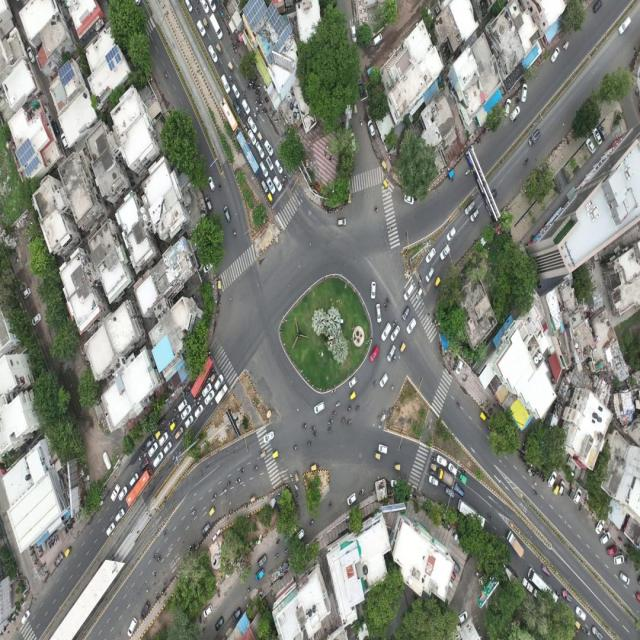3W: (265, 188, 275, 207), (391, 459, 403, 474), (478, 408, 488, 425), (201, 13, 210, 31), (64, 543, 74, 559), (207, 502, 217, 518), (426, 458, 437, 472), (293, 468, 302, 485), (447, 165, 456, 182), (256, 126, 264, 145), (154, 426, 164, 441), (226, 59, 236, 74), (551, 482, 560, 498), (397, 340, 408, 353), (258, 448, 268, 462), (270, 448, 280, 462), (568, 484, 576, 501), (433, 275, 442, 290), (308, 462, 320, 473), (371, 451, 382, 463), (168, 420, 178, 433), (215, 40, 223, 56), (382, 176, 389, 194), (381, 155, 388, 173), (248, 494, 258, 506), (216, 277, 224, 292), (352, 101, 359, 117), (348, 391, 358, 402), (572, 620, 581, 630), (210, 373, 217, 384)
Bus: (124, 463, 156, 512), (188, 351, 217, 402), (235, 128, 262, 179), (527, 566, 560, 604), (456, 492, 487, 532), (219, 95, 241, 137)
Cars: (617, 16, 632, 38), (126, 613, 139, 638), (138, 598, 152, 621), (527, 127, 543, 147), (590, 125, 604, 147), (444, 224, 458, 245), (590, 621, 605, 640), (254, 137, 266, 160), (265, 175, 277, 198), (574, 604, 588, 623), (510, 104, 522, 126), (366, 343, 379, 363), (584, 136, 597, 156), (540, 559, 553, 579), (222, 202, 233, 225), (313, 398, 327, 416), (380, 322, 392, 343), (424, 246, 438, 264), (20, 608, 33, 627), (199, 519, 212, 538), (599, 527, 612, 546), (561, 586, 574, 605), (403, 282, 414, 304), (213, 372, 225, 392), (389, 324, 401, 344), (406, 316, 418, 336), (598, 122, 610, 142), (594, 516, 606, 536), (454, 479, 466, 499), (52, 550, 65, 568), (113, 506, 126, 524), (202, 601, 215, 619), (618, 571, 631, 589), (366, 118, 377, 139), (152, 450, 164, 469), (448, 459, 460, 478), (374, 300, 383, 325), (215, 614, 226, 634), (208, 44, 219, 64), (221, 73, 231, 95), (348, 132, 358, 154), (386, 344, 397, 364), (572, 484, 582, 506), (116, 484, 128, 502), (371, 32, 383, 50), (464, 199, 476, 217), (265, 152, 275, 173), (436, 453, 450, 468), (427, 473, 441, 488), (231, 603, 242, 622), (272, 175, 283, 194), (262, 428, 275, 444), (294, 528, 307, 544), (439, 246, 452, 262), (503, 96, 512, 119), (204, 389, 216, 406), (444, 484, 456, 501), (241, 96, 251, 116), (247, 127, 257, 147), (264, 137, 274, 157), (550, 45, 560, 65), (546, 468, 556, 488), (159, 428, 168, 450), (379, 370, 390, 388), (612, 554, 626, 568), (173, 427, 186, 442), (182, 415, 195, 430), (591, 0, 604, 15), (254, 568, 266, 584), (606, 542, 618, 558), (106, 519, 116, 538), (196, 19, 206, 38), (274, 157, 284, 176), (347, 490, 358, 507), (358, 77, 366, 100), (255, 554, 269, 567), (128, 472, 140, 487), (149, 441, 159, 459), (180, 404, 192, 419), (233, 98, 242, 118), (248, 115, 258, 133), (260, 158, 269, 178), (425, 266, 435, 284), (377, 440, 389, 455), (147, 433, 158, 449), (205, 192, 213, 214), (230, 84, 241, 100), (369, 278, 377, 300), (401, 305, 411, 322), (192, 404, 204, 418), (350, 23, 358, 44), (520, 83, 528, 103), (558, 476, 566, 496), (335, 216, 348, 228), (402, 193, 415, 205), (139, 458, 150, 472), (163, 442, 174, 456), (208, 172, 215, 194), (208, 0, 219, 14), (469, 208, 480, 222), (260, 178, 269, 195), (202, 382, 212, 397), (489, 188, 499, 202), (185, 0, 194, 15), (200, 0, 209, 15), (416, 287, 424, 300)
LCV: (208, 12, 225, 42), (214, 384, 230, 407), (520, 577, 534, 596), (109, 482, 121, 504), (457, 469, 469, 488), (176, 395, 188, 413)
M2W: (358, 483, 366, 499), (522, 156, 532, 166), (486, 510, 494, 521), (389, 382, 396, 394), (391, 353, 398, 365), (273, 537, 282, 546), (307, 519, 315, 529), (330, 386, 338, 396), (334, 399, 342, 409), (330, 408, 338, 418), (455, 398, 461, 411), (354, 401, 360, 414), (382, 300, 388, 312), (372, 378, 378, 390), (221, 485, 228, 495), (372, 204, 379, 214), (428, 466, 435, 476), (326, 425, 333, 435), (358, 115, 363, 128), (340, 416, 348, 424), (187, 544, 193, 554), (152, 551, 158, 561), (272, 552, 278, 562), (241, 90, 247, 100), (624, 553, 629, 565), (580, 624, 586, 634), (555, 588, 561, 598), (346, 406, 353, 414), (253, 110, 258, 121), (212, 491, 218, 500), (156, 555, 162, 564), (283, 547, 289, 556), (228, 74, 234, 83), (242, 111, 248, 120), (532, 488, 538, 497), (617, 535, 623, 544), (585, 629, 591, 638), (431, 454, 437, 463), (328, 500, 333, 510), (218, 182, 223, 192), (392, 319, 397, 329), (225, 479, 232, 486), (292, 445, 299, 452), (309, 425, 316, 432), (30, 550, 36, 558), (209, 368, 215, 376), (239, 466, 245, 474), (190, 508, 196, 516), (201, 627, 207, 635), (246, 586, 252, 594), (294, 484, 300, 492), (195, 6, 201, 14), (274, 117, 280, 125), (618, 547, 624, 555), (326, 418, 334, 424), (34, 557, 39, 566), (304, 441, 313, 446), (246, 82, 251, 91), (246, 120, 251, 129), (281, 181, 286, 190), (439, 479, 444, 488), (578, 502, 582, 513), (140, 446, 146, 453), (143, 451, 149, 458), (161, 418, 167, 425), (302, 422, 308, 429), (250, 81, 256, 88), (464, 169, 470, 176), (347, 419, 353, 426), (50, 538, 54, 548), (253, 465, 258, 473), (163, 529, 168, 537), (233, 228, 237, 238), (164, 70, 168, 80), (257, 82, 262, 90), (244, 124, 248, 134), (386, 297, 391, 305), (461, 466, 466, 474), (39, 553, 45, 559), (41, 562, 47, 568), (168, 418, 172, 427), (172, 407, 178, 413), (175, 413, 181, 419), (236, 478, 242, 484), (156, 592, 160, 601), (162, 588, 166, 597), (248, 80, 254, 86), (258, 100, 264, 106), (387, 226, 393, 232), (479, 136, 483, 145), (519, 452, 523, 461), (622, 543, 628, 549), (163, 426, 168, 433), (206, 376, 211, 383), (313, 431, 318, 438), (253, 87, 258, 94), (48, 542, 52, 550), (64, 527, 68, 535), (69, 522, 73, 530), (139, 454, 143, 462), (294, 491, 298, 499), (232, 41, 236, 49), (256, 106, 260, 114), (476, 138, 480, 146), (70, 519, 75, 525), (187, 385, 193, 390), (198, 396, 203, 402), (195, 401, 200, 407), (290, 473, 293, 483), (435, 319, 438, 329), (491, 407, 494, 417), (487, 425, 492, 431), (523, 454, 526, 464), (540, 472, 543, 482), (268, 106, 272, 113), (284, 175, 288, 182), (282, 176, 286, 183), (536, 469, 540, 476), (53, 537, 56, 546), (56, 534, 59, 543), (264, 107, 267, 116), (530, 462, 533, 471), (171, 417, 176, 422), (193, 398, 198, 403), (67, 523, 70, 531), (255, 94, 261, 98), (261, 108, 265, 114), (270, 111, 274, 117), (488, 406, 491, 414), (522, 454, 525, 462), (532, 472, 536, 478), (255, 99, 258, 106), (185, 391, 190, 395), (233, 50, 238, 54), (264, 96, 268, 101), (265, 99, 269, 104), (516, 100, 520, 105), (516, 92, 519, 98), (252, 86, 256, 90), (542, 476, 544, 484), (155, 571, 157, 576)
Truck: (504, 523, 527, 561), (438, 468, 457, 490)
